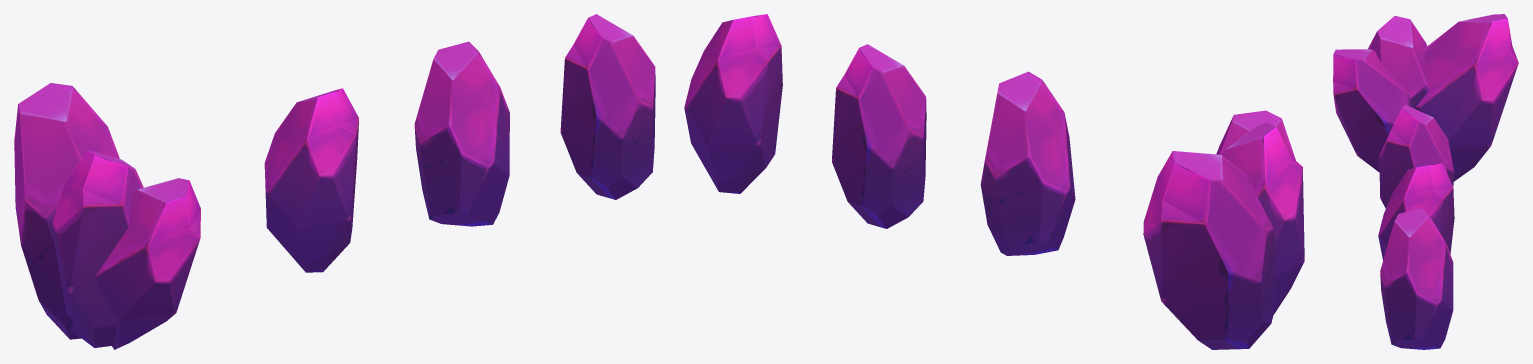
The model's file is Empty_Group_Crystals.fbx.
3 views of the same model, side by side, from view 1: azimuth 30°, elevation 25°; view 2: azimuth 150°, elevation 25°; view 3: azimuth 270°, elevation 25° (orthographic). The views are drawn at different scales.
Parts seen in each view (by area): view 1: Crystal_Cube.001, Cube.002_Cube.003, Cube.001_Cube.002, Crystal_Cube.009, Crystal_Cube.004, Crystal_Cube.003; view 2: Crystal_Cube.009, Crystal_Cube.001, Cube.001_Cube.002, Cube.002_Cube.003, Crystal_Cube.003, Crystal_Cube.004; view 3: Crystal_Cube.009, Cube.002_Cube.003, Crystal_Cube.004, Cube.001_Cube.002, Crystal_Cube.001, Crystal_Cube.003.
Boxes of the visible parts, x1=… form: Crystal_Cube.001: x1=414, y1=41, x2=509, y2=226; Cube.002_Cube.003: x1=560, y1=14, x2=655, y2=199; Cube.001_Cube.002: x1=264, y1=88, x2=358, y2=272; Crystal_Cube.009: x1=14, y1=83, x2=119, y2=339; Crystal_Cube.004: x1=95, y1=178, x2=200, y2=349; Crystal_Cube.003: x1=52, y1=150, x2=143, y2=347; Crystal_Cube.009: x1=1143, y1=151, x2=1275, y2=349; Crystal_Cube.001: x1=832, y1=44, x2=926, y2=228; Cube.001_Cube.002: x1=980, y1=71, x2=1075, y2=255; Cube.002_Cube.003: x1=684, y1=14, x2=782, y2=193; Crystal_Cube.003: x1=1222, y1=122, x2=1304, y2=314; Crystal_Cube.004: x1=1216, y1=110, x2=1295, y2=160; Crystal_Cube.009: x1=1415, y1=14, x2=1518, y2=181; Cube.002_Cube.003: x1=1380, y1=207, x2=1453, y2=349; Crystal_Cube.004: x1=1333, y1=49, x2=1412, y2=172; Cube.001_Cube.002: x1=1379, y1=104, x2=1454, y2=208; Crystal_Cube.001: x1=1378, y1=163, x2=1454, y2=260; Crystal_Cube.003: x1=1368, y1=16, x2=1429, y2=108.
Bounding box in the file's own units: 0.492 × 0.1742 × 0.1703.
Materials: 1 (1 with a texture image).
